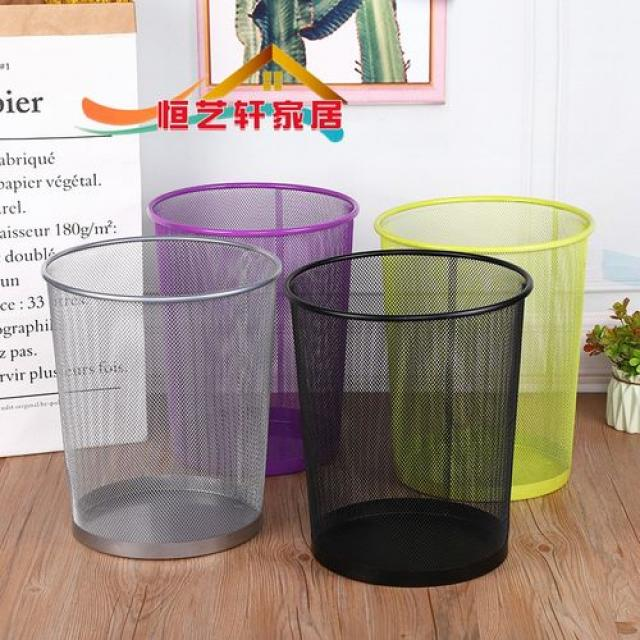Dustbin: (284, 246, 536, 592), (36, 232, 285, 564), (370, 191, 598, 506), (144, 178, 361, 484)
